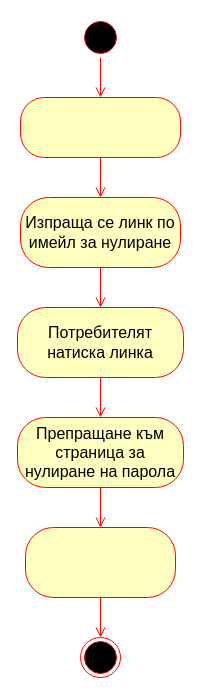
This 201x695 diagram has some shape labels left out. Here are the shapes that lost their labels. From the top down, the centre of each, then its label:
At pixel 100 127: "Потребителят избира опция забравена парола".
At pixel 100 562: "Потребителят задава нова парола".
